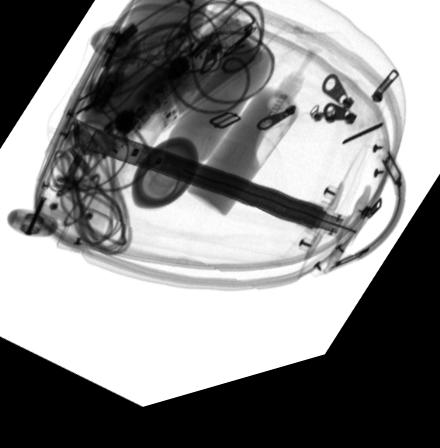Powerbank: (149, 25, 260, 141)
